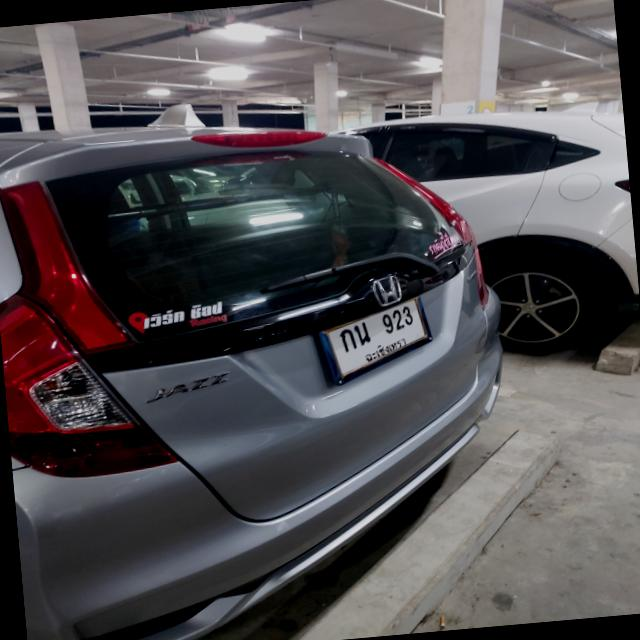license_plate: (328, 297, 429, 375)
